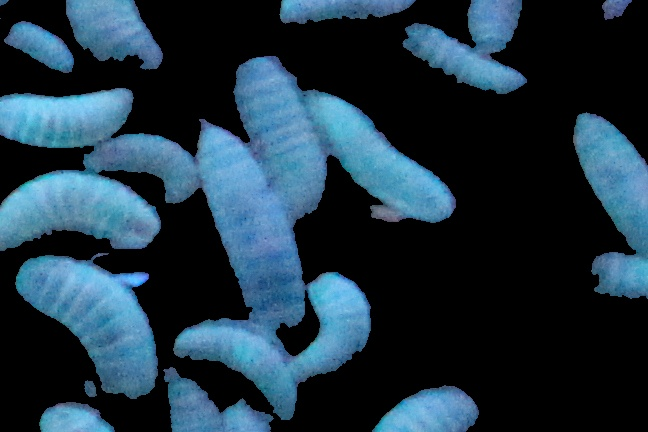larvae: (183, 123, 306, 327), (302, 89, 456, 223), (13, 258, 156, 397), (231, 59, 326, 217), (1, 173, 161, 251), (176, 318, 296, 421), (569, 111, 648, 255), (82, 132, 200, 205), (1, 86, 137, 147), (294, 270, 371, 375), (403, 24, 523, 89), (68, 1, 167, 68), (369, 382, 479, 432), (578, 246, 648, 306), (1, 20, 75, 74), (277, 1, 420, 27), (162, 374, 225, 432), (470, 1, 521, 55)
